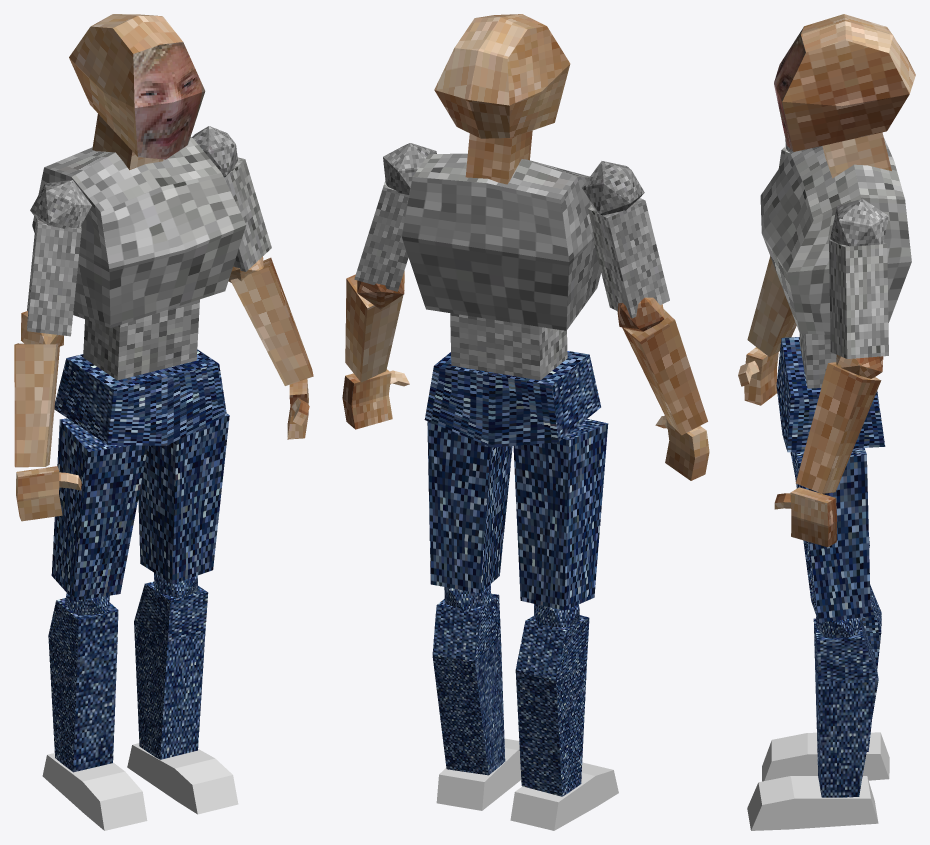
Rendered from PEOPLE.fbx.
The picture shows the model from 3 angles, left to right: view 1: azimuth 30°, elevation 25°; view 2: azimuth 150°, elevation 25°; view 3: azimuth 270°, elevation 25°; orthographic projection. The views are drawn at different scales.
Parts seen in each view (by area): view 1: Cube.002, Cube.001, Cube.016, Cube.020, Cube.013, Cube.014, Cube.017, Cube.019, Cube.008, Cube.011, Cube.006, Cube.015 (+10 smaller); view 2: Cube.002, Cube.016, Cube.001, Cube.020, Cube.013, Cube.017, Cube.014, Cube.008, Cube.019, Cube.011, Cube.006, Cube.018 (+11 smaller); view 3: Cube.002, Cube.001, Cube.014, Cube.013, Cube.003, Cube.006, Cube.015, Cube.020, Cube.018, Cube.011, Cube.004, Cube.007 (+6 smaller).
Boxes of the visible parts, <box> form: Cube.002: <box>32,137,246,327</box>; Cube.001: <box>69,14,205,159</box>; Cube.016: <box>51,418,147,600</box>; Cube.020: <box>54,349,226,445</box>; Cube.013: <box>138,413,229,583</box>; Cube.014: <box>134,581,208,759</box>; Cube.017: <box>48,598,118,772</box>; Cube.019: <box>83,299,199,380</box>; Cube.008: <box>27,218,81,336</box>; Cube.011: <box>14,343,59,467</box>; Cube.006: <box>230,257,313,385</box>; Cube.015: <box>127,743,238,814</box>; Cube.002: <box>401,153,601,330</box>; Cube.016: <box>513,419,608,610</box>; Cube.001: <box>434,14,570,138</box>; Cube.020: <box>424,351,600,447</box>; Cube.013: <box>427,421,512,593</box>; Cube.017: <box>515,615,589,796</box>; Cube.014: <box>432,593,505,775</box>; Cube.008: <box>588,198,669,318</box>; Cube.019: <box>450,313,567,380</box>; Cube.011: <box>622,309,707,435</box>; Cube.006: <box>345,274,404,382</box>; Cube.018: <box>510,762,618,830</box>; Cube.002: <box>760,137,911,334</box>; Cube.001: <box>774,14,915,151</box>; Cube.014: <box>813,618,878,797</box>; Cube.013: <box>792,448,870,622</box>; Cube.003: <box>829,240,888,358</box>; Cube.006: <box>795,362,881,493</box>; Cube.015: <box>747,776,878,830</box>; Cube.020: <box>776,337,885,452</box>; Cube.018: <box>762,732,889,781</box>; Cube.011: <box>747,256,796,356</box>; Cube.004: <box>774,487,836,547</box>; Cube.007: <box>830,198,888,246</box>.
Size of the model in its own units: 99.66 by 225 by 46.3.
4 materials, 4 textured.
